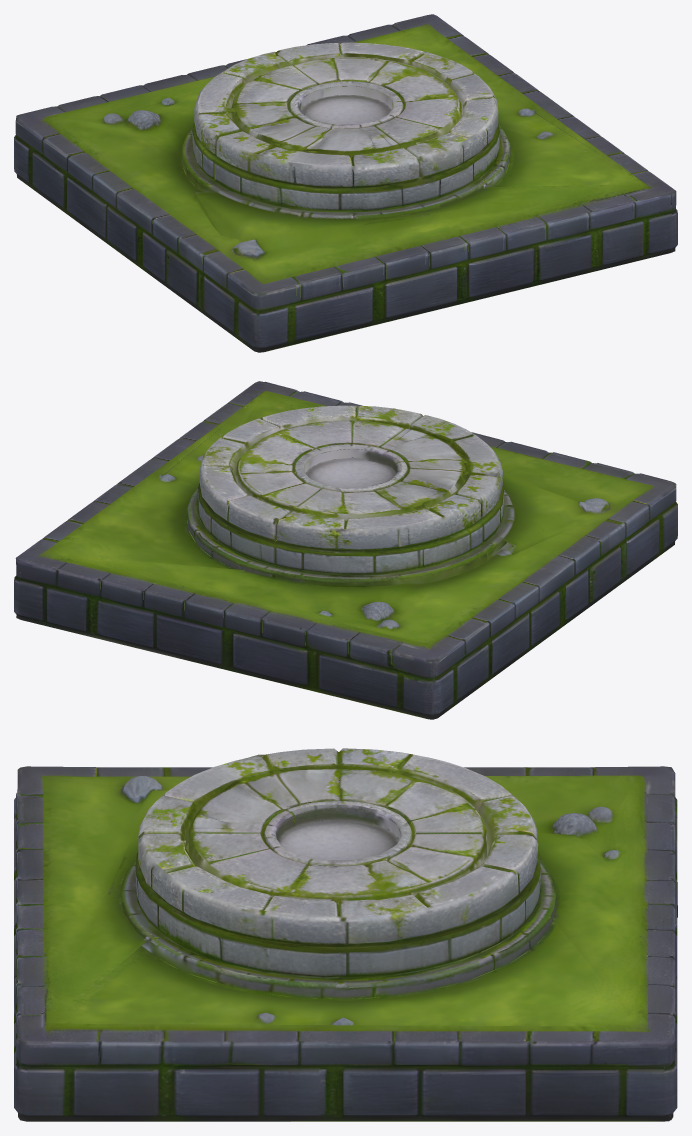
3 views of the same model, one above another, from view 1: azimuth 30°, elevation 25°; view 2: azimuth 150°, elevation 25°; view 3: azimuth 270°, elevation 25° (orthographic). The views are drawn at different scales.
Visible parts, largest first — view 1: Round_Stone_Pad_Optimized; view 2: Round_Stone_Pad_Optimized; view 3: Round_Stone_Pad_Optimized.
Boxes of the visible parts, bbox=[...] form: Round_Stone_Pad_Optimized: bbox=[14, 14, 677, 352]; Round_Stone_Pad_Optimized: bbox=[14, 381, 677, 719]; Round_Stone_Pad_Optimized: bbox=[14, 748, 677, 1121].
Bounding box in the file's own units: 0.8469 × 0.2142 × 0.8511.
Materials: 1 (1 with a texture image).
